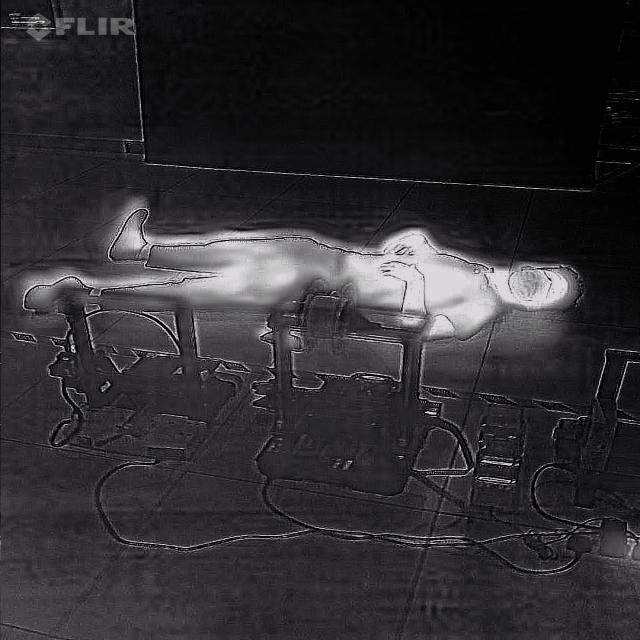Victim: (0, 205, 595, 344)
